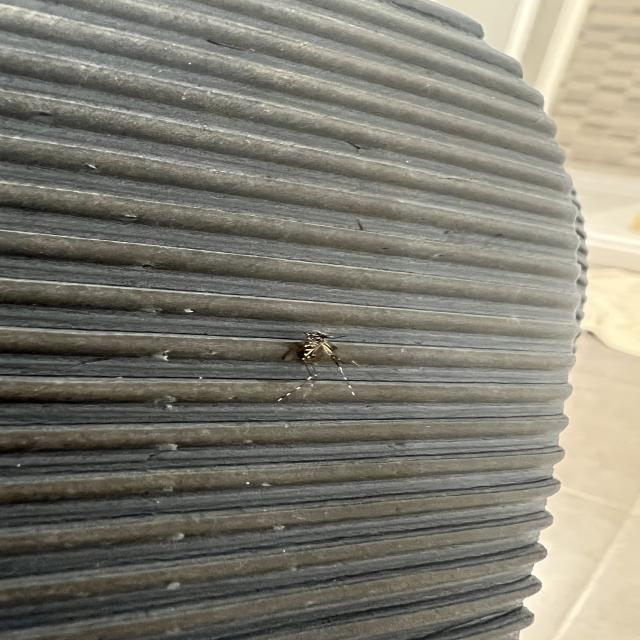albopictus: (264, 328, 389, 403)
